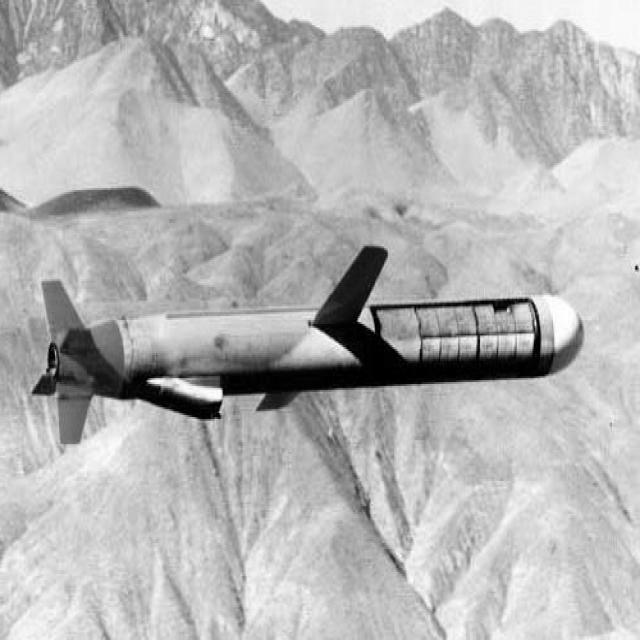Missile: (30, 242, 598, 452), (72, 286, 588, 402)
